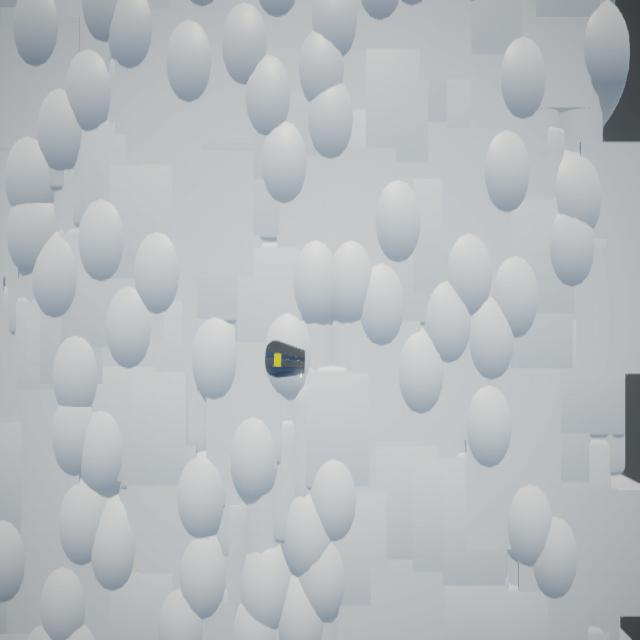handle_folk: (266, 341, 306, 379)
